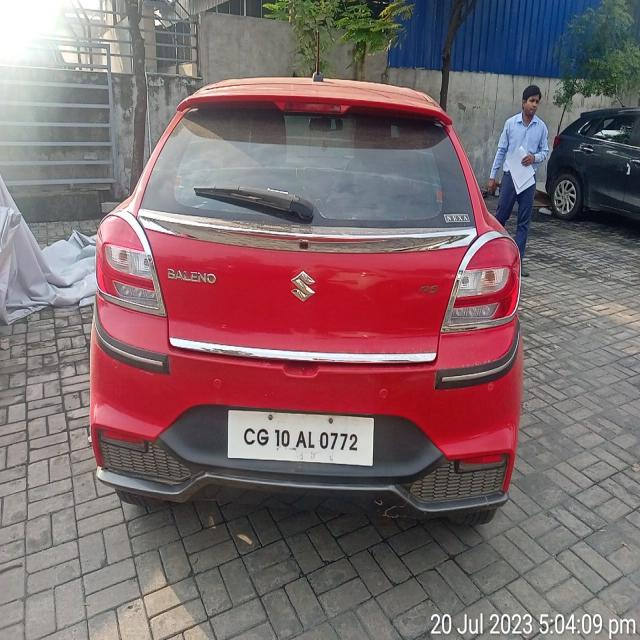damage: (365, 491, 413, 525), (331, 267, 388, 294)
